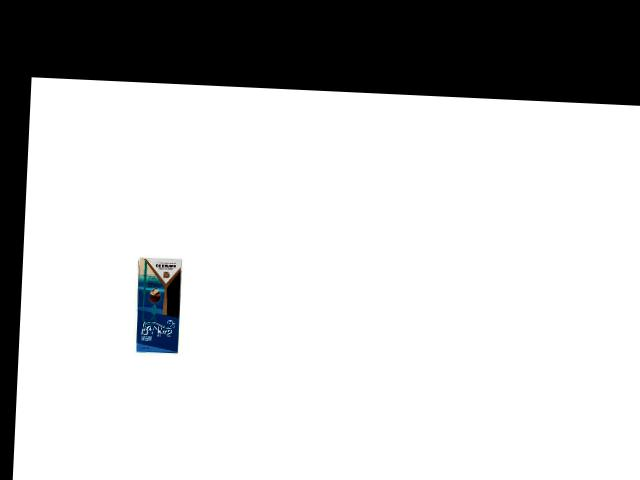chocolate: (133, 254, 185, 355)
